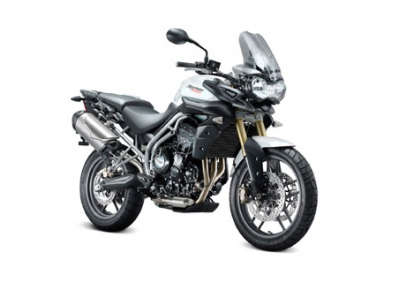motorcycle: (71, 54, 319, 252)
